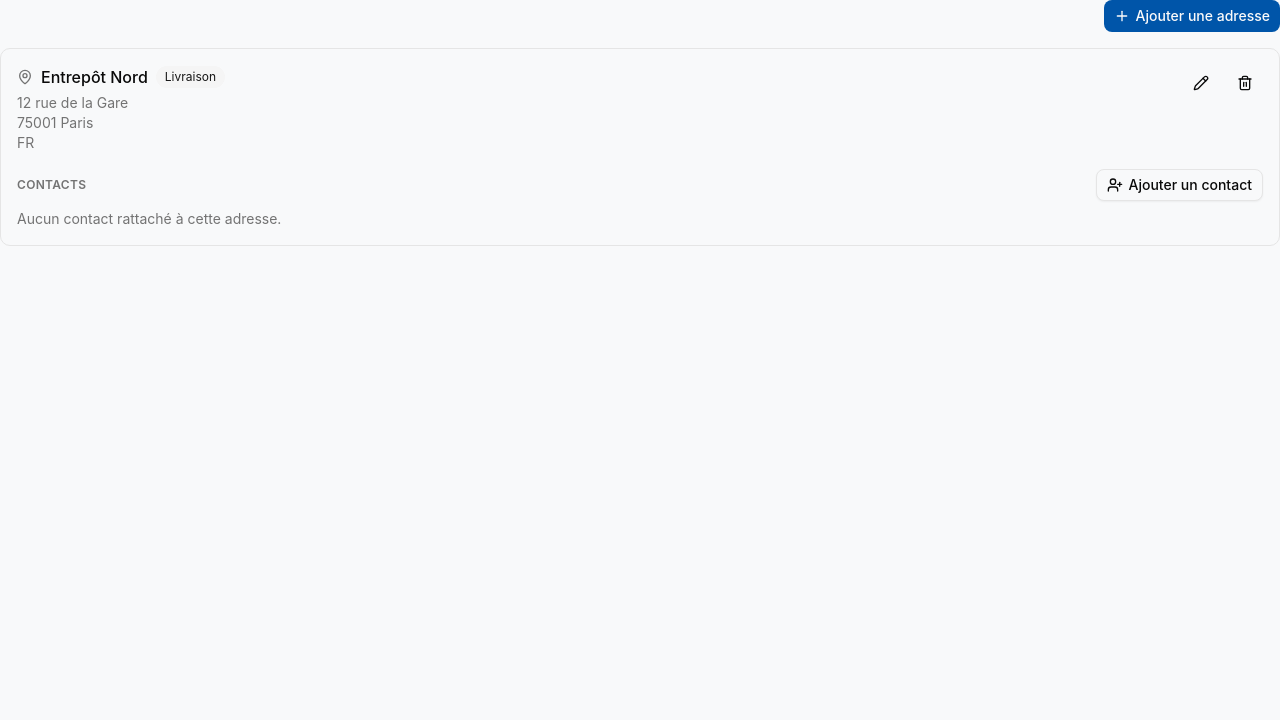
Test case: actions sur les adresses › demande confirmation avant de supprimer
The image size is (1280, 720).
Expected: the text "Entrepôt Nord" is shown, [41, 67, 148, 87]
Click the button named "Supprimer" at {"x": 1245, "y": 83}, box [1227, 65, 1263, 101]
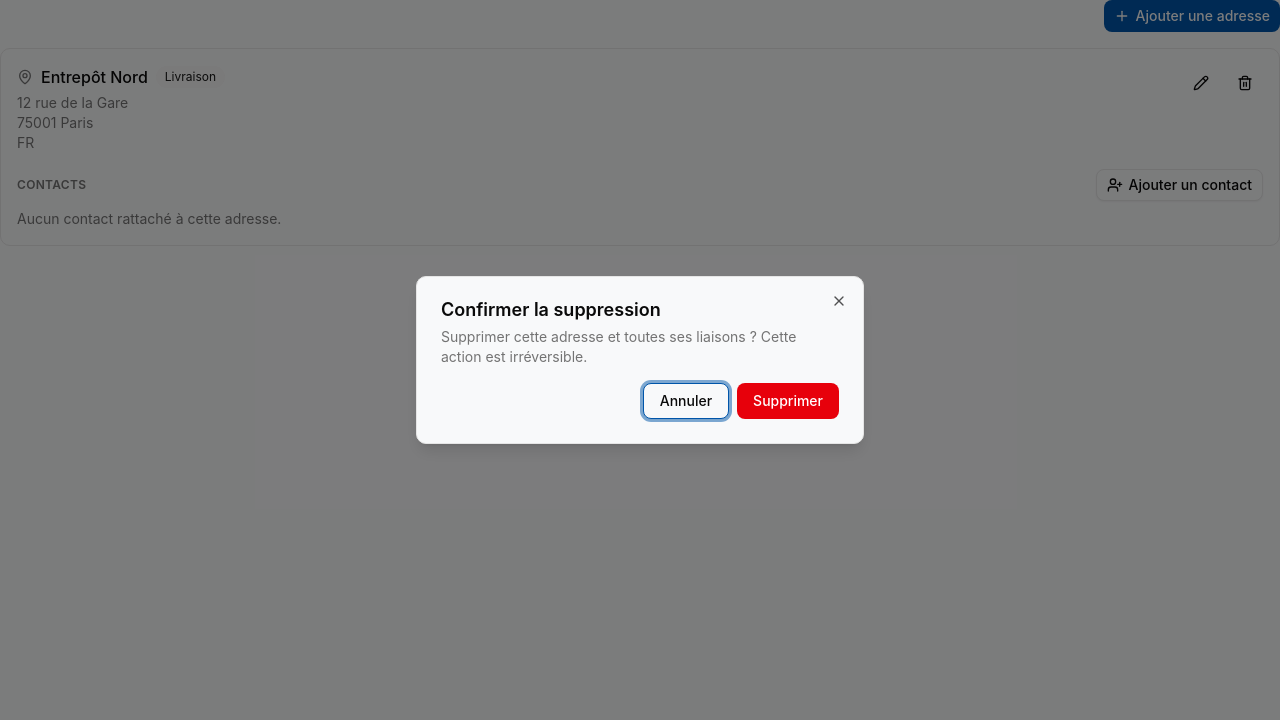
Now the dialog shows "Confirmer la suppression", box [441, 299, 661, 320]
